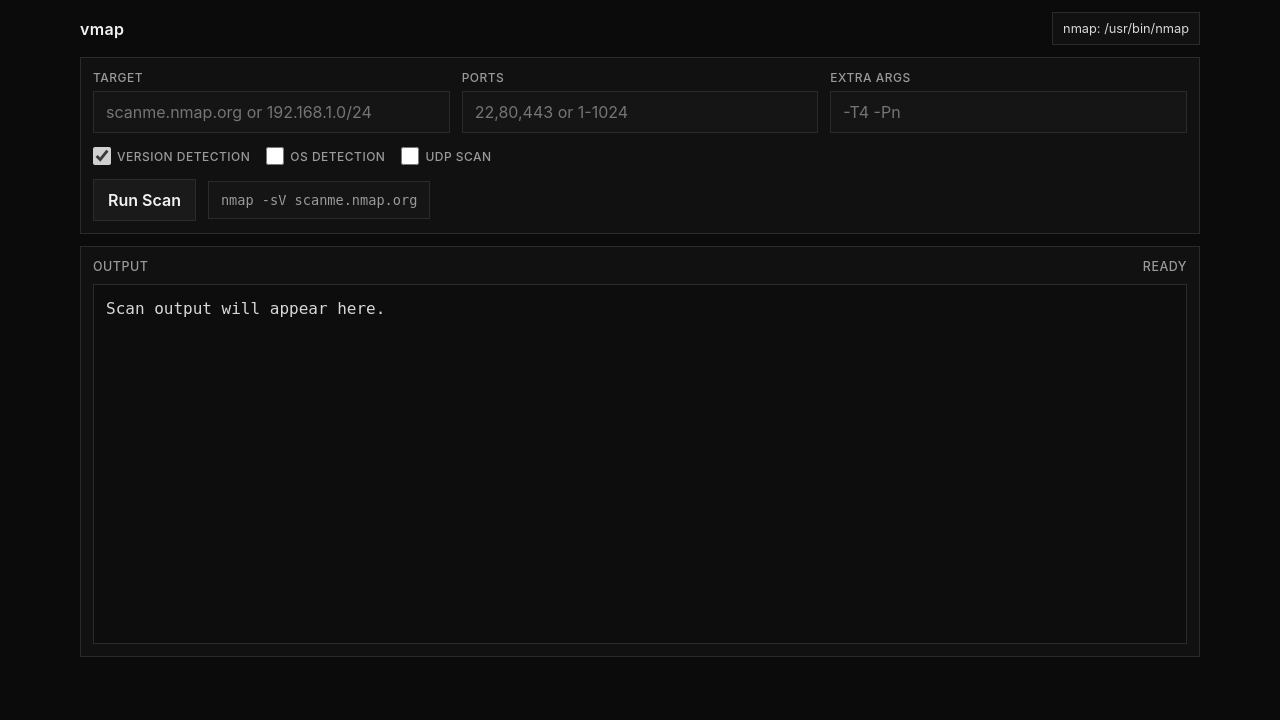
Scenario: App › renders an error message when the scan fails
This screenshot has width=1280, height=720.
Type "scanme.nmap.org" into the field labelled "Target".
click(271, 112); type("scanme.nmap.org")  # box [93,91,450,133]
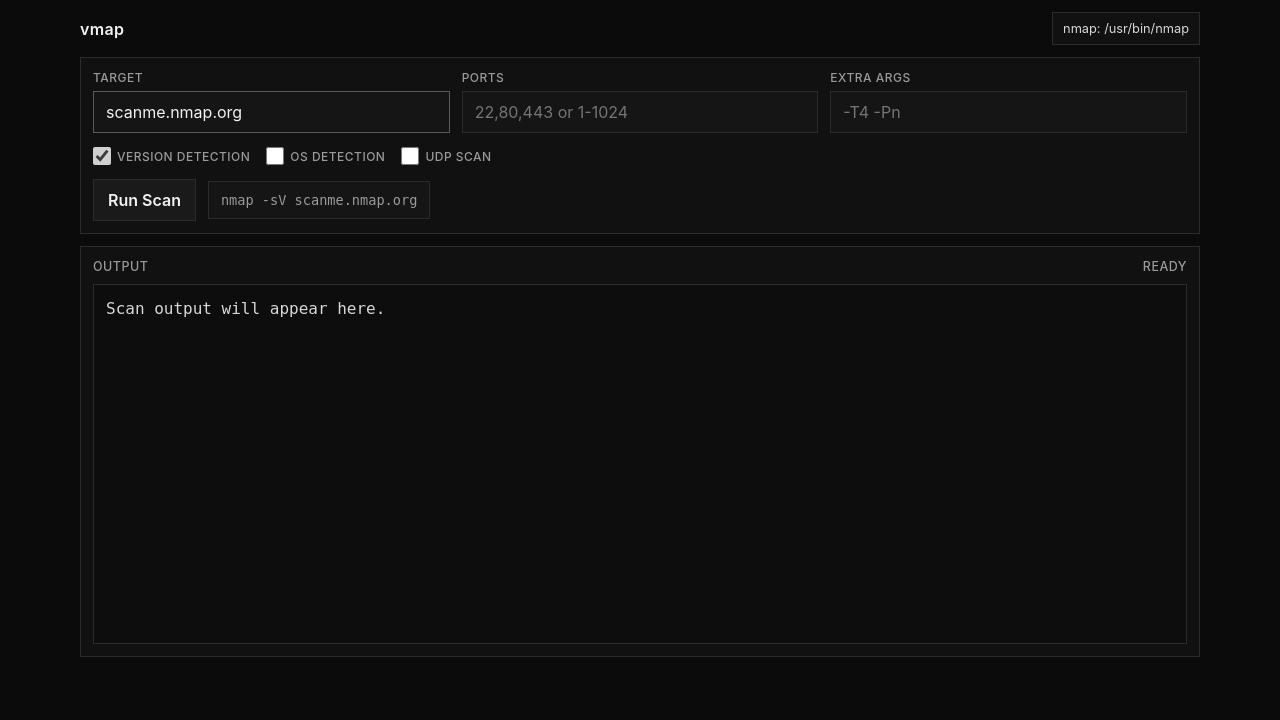
Click the button "Run Scan".
click(144, 200)  # box [93,179,196,221]
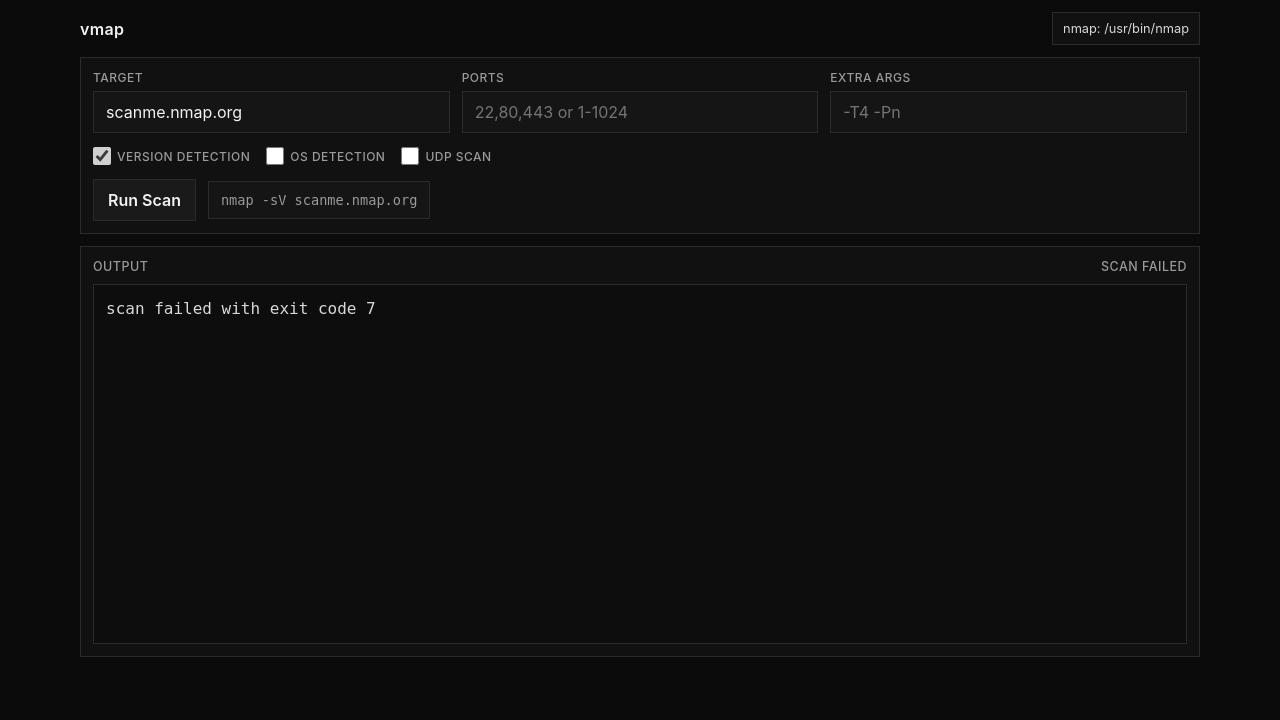
Now the text "scan failed with exit code 7" is shown, box [93,284,1187,644]
Now the text "Scan failed" is shown, box [1101,259,1187,274]
